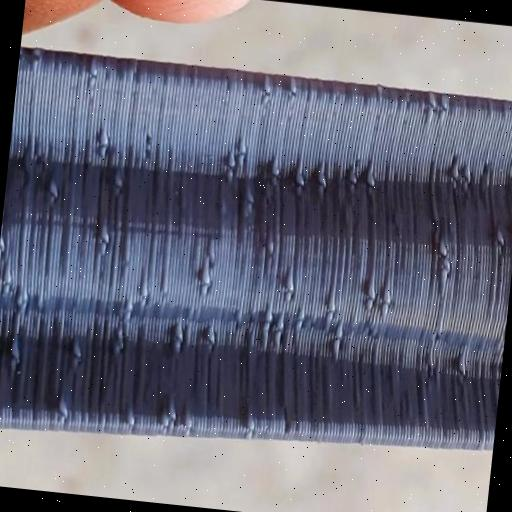blobs: (156, 394, 184, 428), (7, 283, 32, 317), (170, 322, 192, 354), (121, 404, 146, 428), (92, 125, 113, 151), (94, 228, 114, 254), (288, 167, 310, 190), (280, 270, 300, 294), (326, 338, 350, 358), (321, 296, 344, 316), (204, 325, 224, 348), (196, 266, 214, 291), (377, 297, 398, 318), (85, 64, 106, 85), (312, 166, 332, 188), (136, 282, 156, 304), (52, 396, 70, 420), (266, 156, 286, 177), (111, 336, 132, 356), (70, 338, 89, 360), (454, 352, 470, 378), (235, 130, 252, 154), (462, 160, 479, 184), (258, 82, 275, 106), (44, 180, 64, 200), (448, 160, 464, 184), (377, 288, 396, 308), (491, 230, 510, 250), (438, 264, 455, 286), (220, 152, 238, 172), (432, 238, 449, 258), (366, 168, 380, 192), (115, 170, 128, 195), (330, 320, 348, 338), (240, 416, 258, 434), (292, 311, 308, 331), (363, 279, 378, 300), (347, 166, 360, 190), (122, 294, 136, 316), (360, 296, 376, 315), (260, 309, 273, 328), (276, 314, 288, 333)
